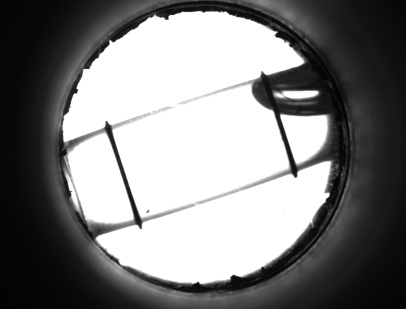line: (108, 147, 140, 208), (273, 123, 301, 158)
